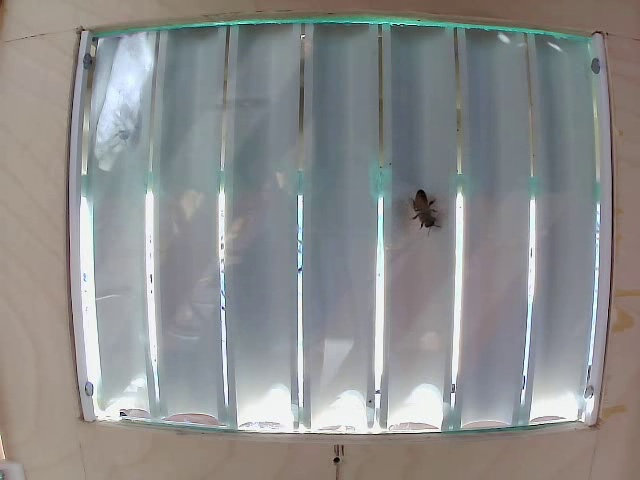bee: (408, 183, 457, 238)
